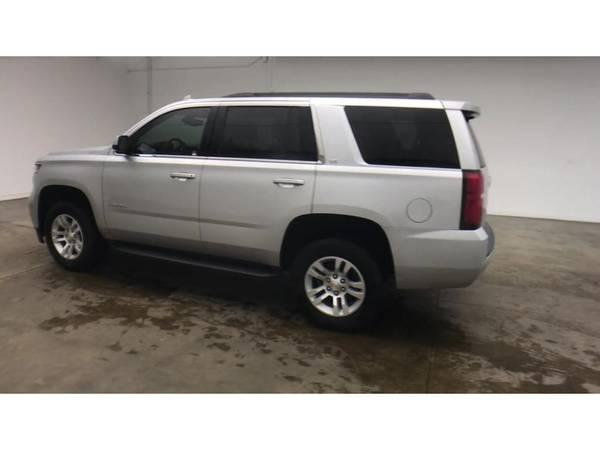Front_Fender: (30, 150, 110, 239)
Front_Left_Door: (103, 153, 204, 253)
Front_Left_Window: (111, 107, 216, 157)
Rear_Bumper: (384, 227, 497, 292)
Rear_Fender: (309, 104, 462, 232)
Rear_Left_Door: (198, 158, 318, 267), (457, 169, 483, 232)
Rear_Left_Window: (204, 106, 320, 163)
Roof: (110, 97, 481, 171)
Wheel: (288, 239, 383, 330), (41, 199, 98, 267)
